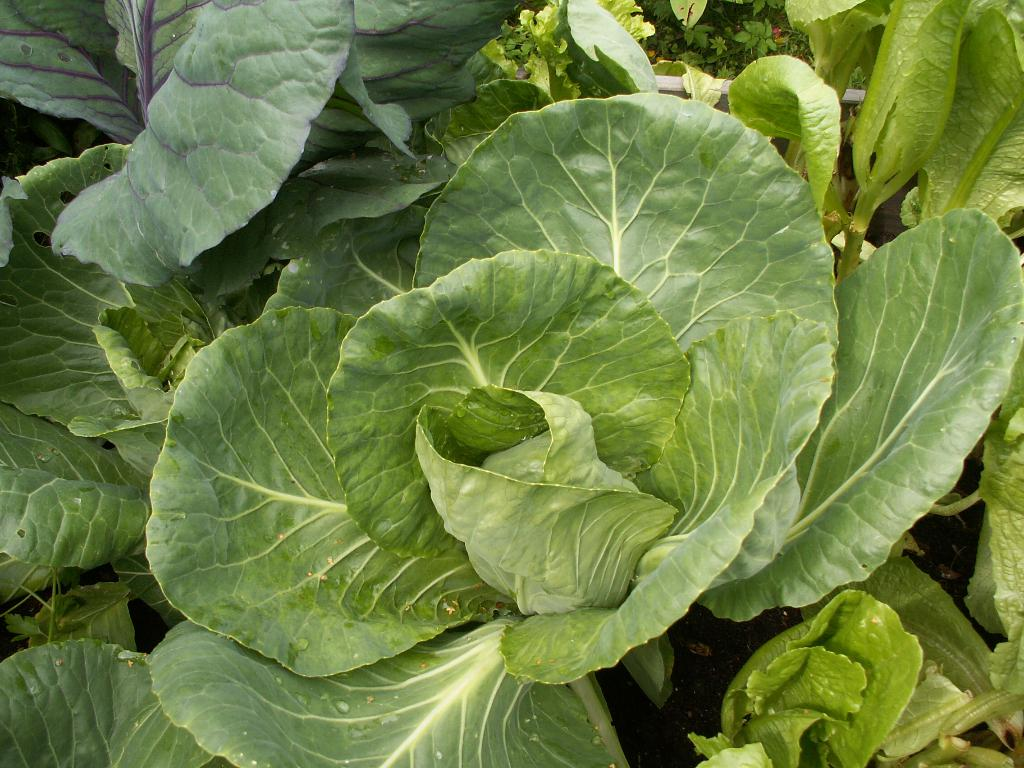Cabbage: (0, 0, 1024, 767), (417, 385, 678, 615)
